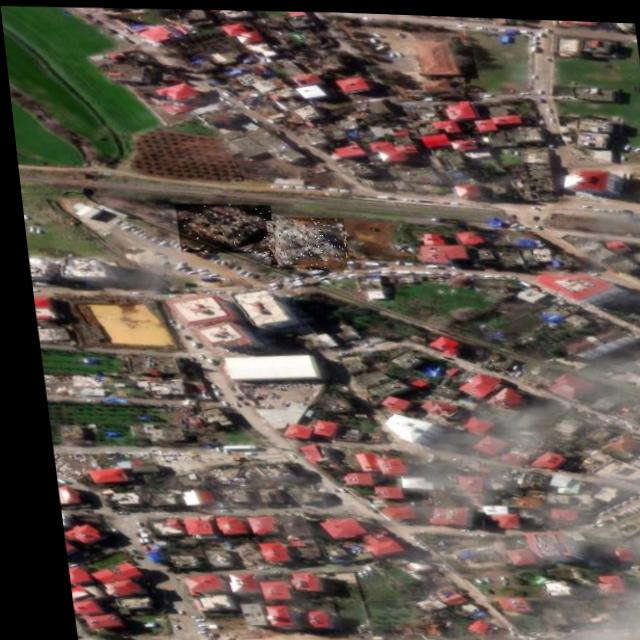Rubble: (169, 199, 269, 253), (257, 213, 343, 268), (629, 434, 640, 477)
